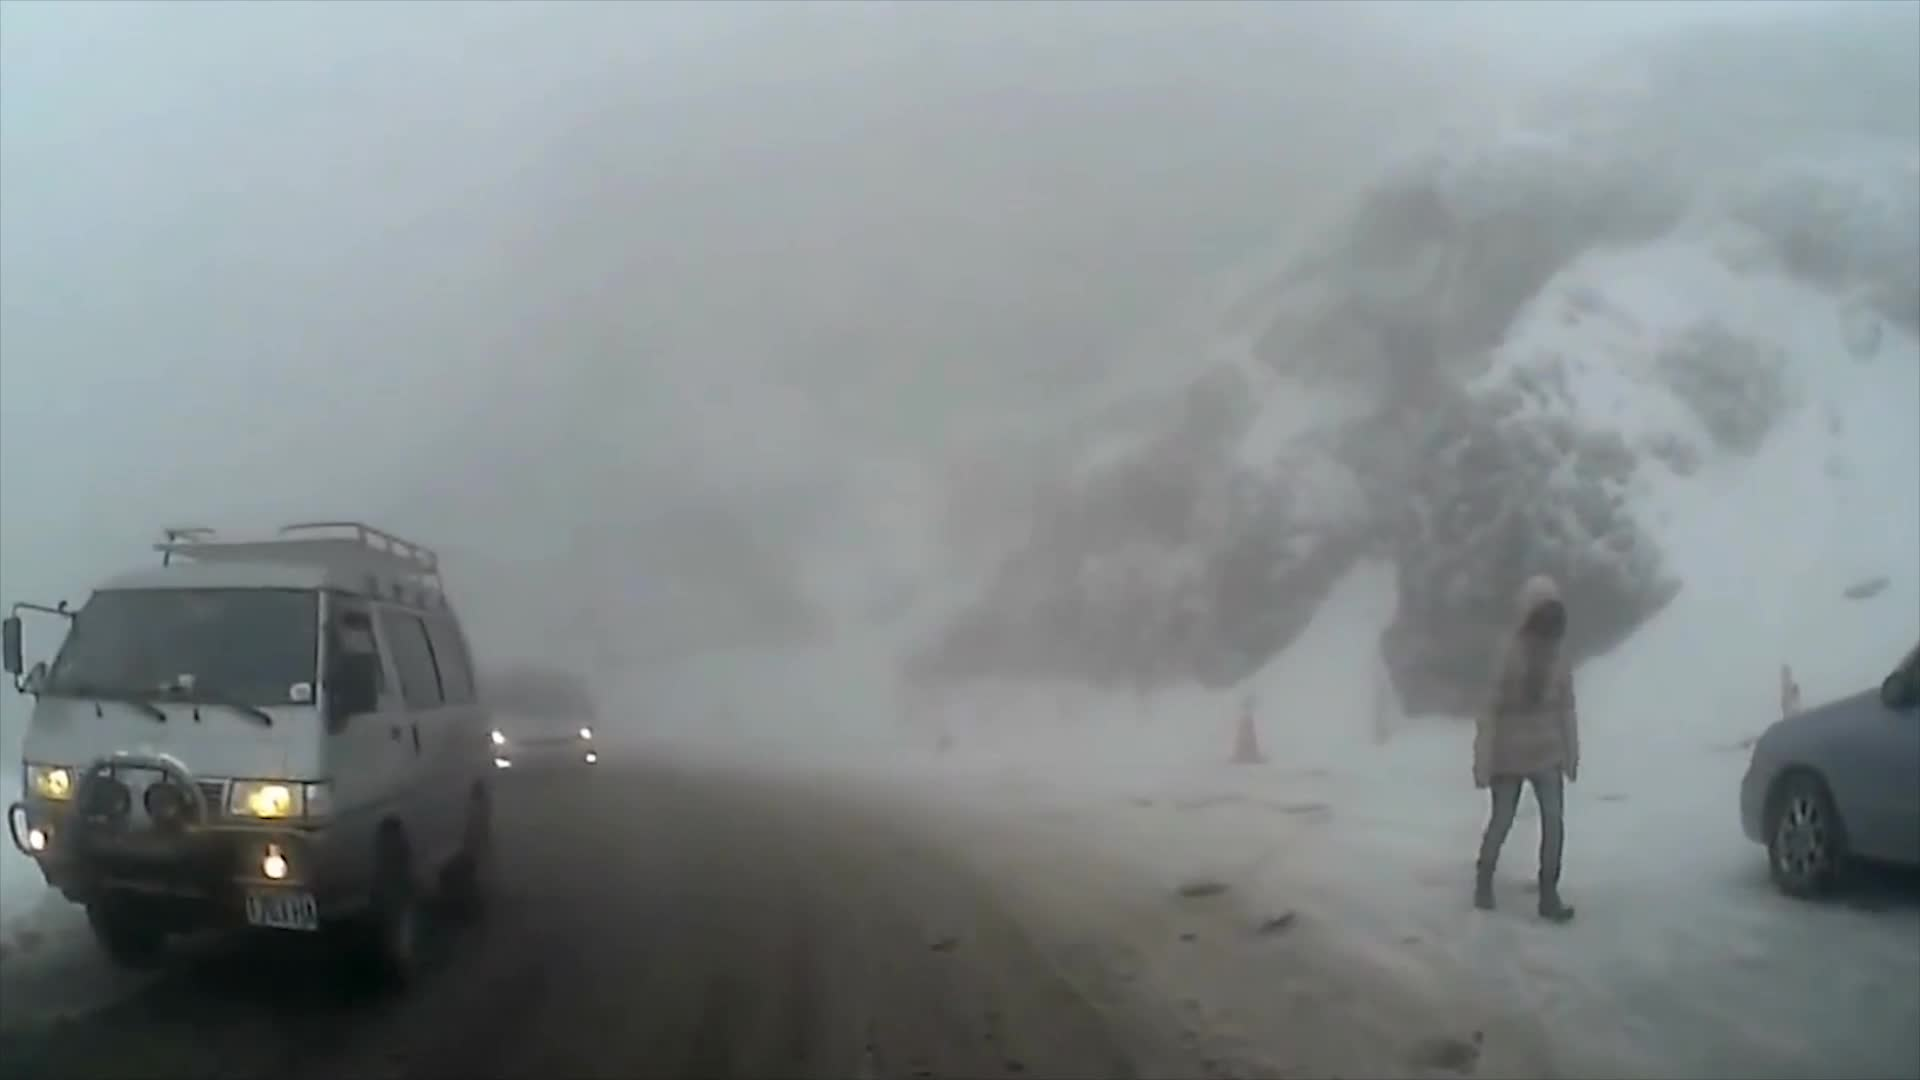pedestrian: (1464, 576, 1581, 923)
vehicle: (0, 515, 500, 992), (1736, 641, 1920, 913), (443, 669, 600, 788)
